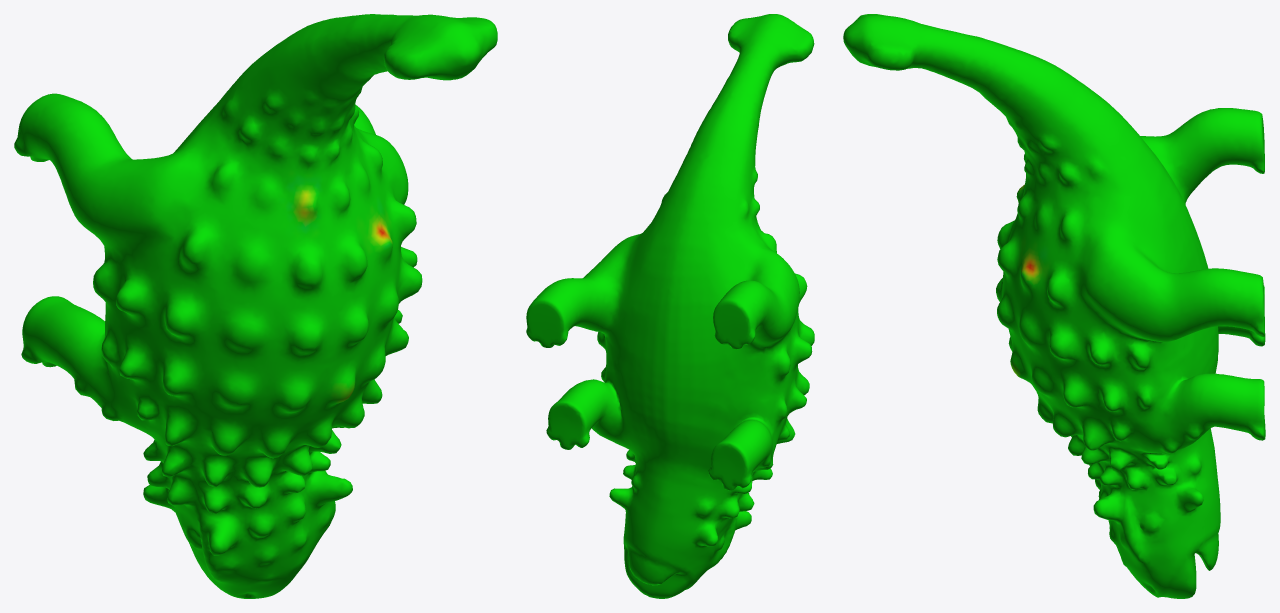
File: all=0.000193-hole=0.001509-mgcn.obj
The picture shows the model from 3 angles, left to right: view 1: azimuth 30°, elevation 25°; view 2: azimuth 150°, elevation 25°; view 3: azimuth 270°, elevation 25°; orthographic projection. The views are drawn at different scales.
Bounding box in the file's own units: 62.61 × 127 × 83.11.
